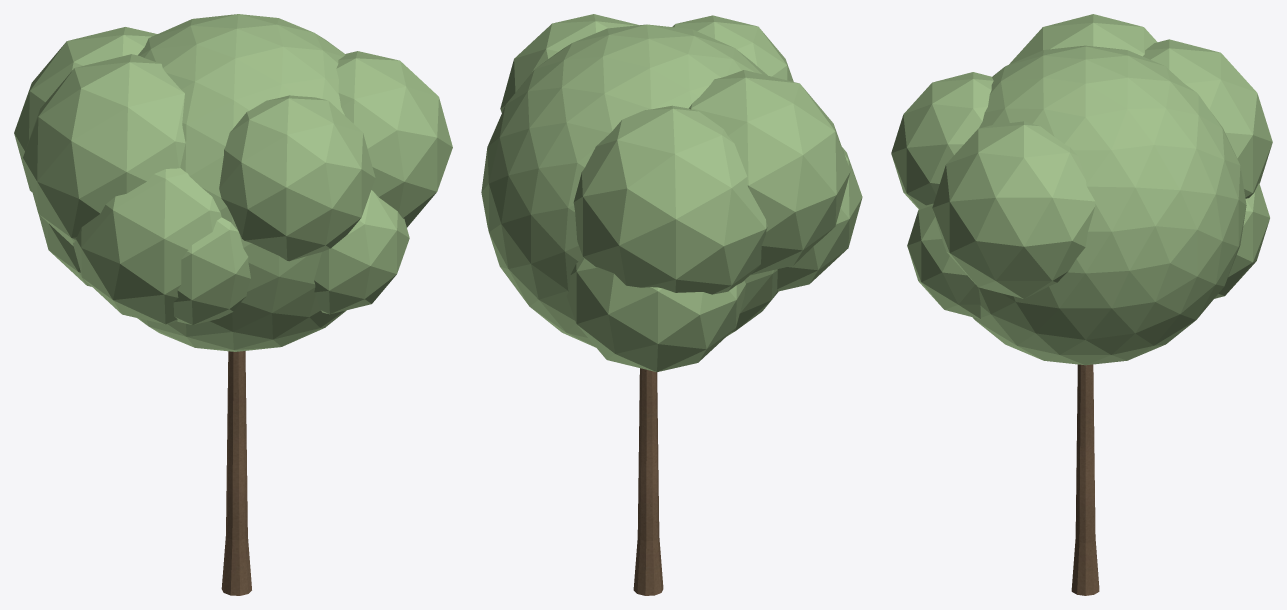
File: tree.glb
The picture shows the model from 3 angles, left to right: view 1: azimuth 30°, elevation 25°; view 2: azimuth 150°, elevation 25°; view 3: azimuth 270°, elevation 25°; orthographic projection. The views are drawn at different scales.
Visible parts, largest first — view 1: tree_leaf, tree_bark; view 2: tree_leaf, tree_bark; view 3: tree_leaf, tree_bark.
Boxes of the visible parts, box(x1,y1,x2,y2) form: tree_leaf: box(14, 14, 452, 351); tree_bark: box(221, 351, 251, 595); tree_leaf: box(481, 14, 862, 372); tree_bark: box(633, 368, 663, 595); tree_leaf: box(891, 14, 1272, 365); tree_bark: box(1071, 364, 1099, 595).
Bounding box in the file's own units: 4.97 × 7.27 × 4.74.
Materials: 2 (1 with a texture image).
